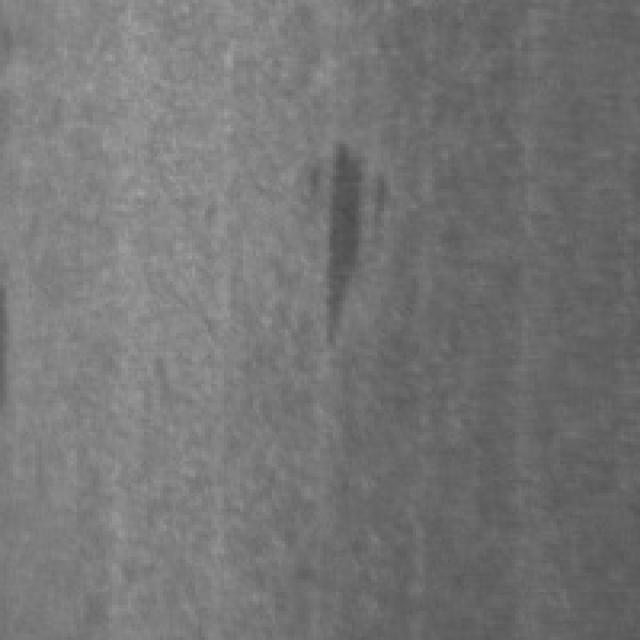inclusion: (291, 125, 397, 358)
